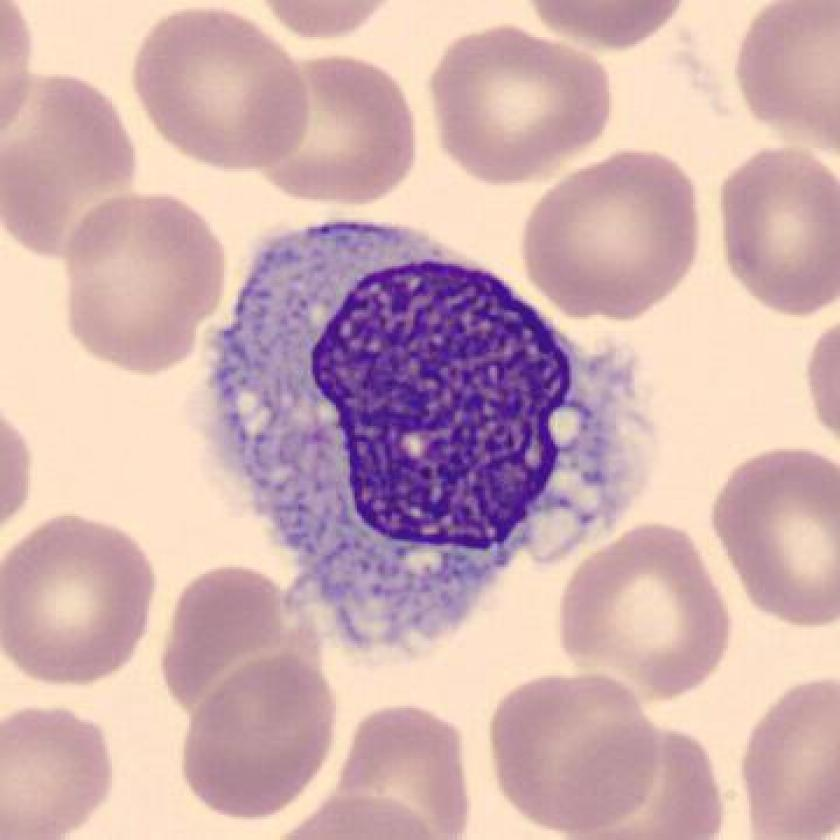monocyte: (174, 189, 668, 661)
